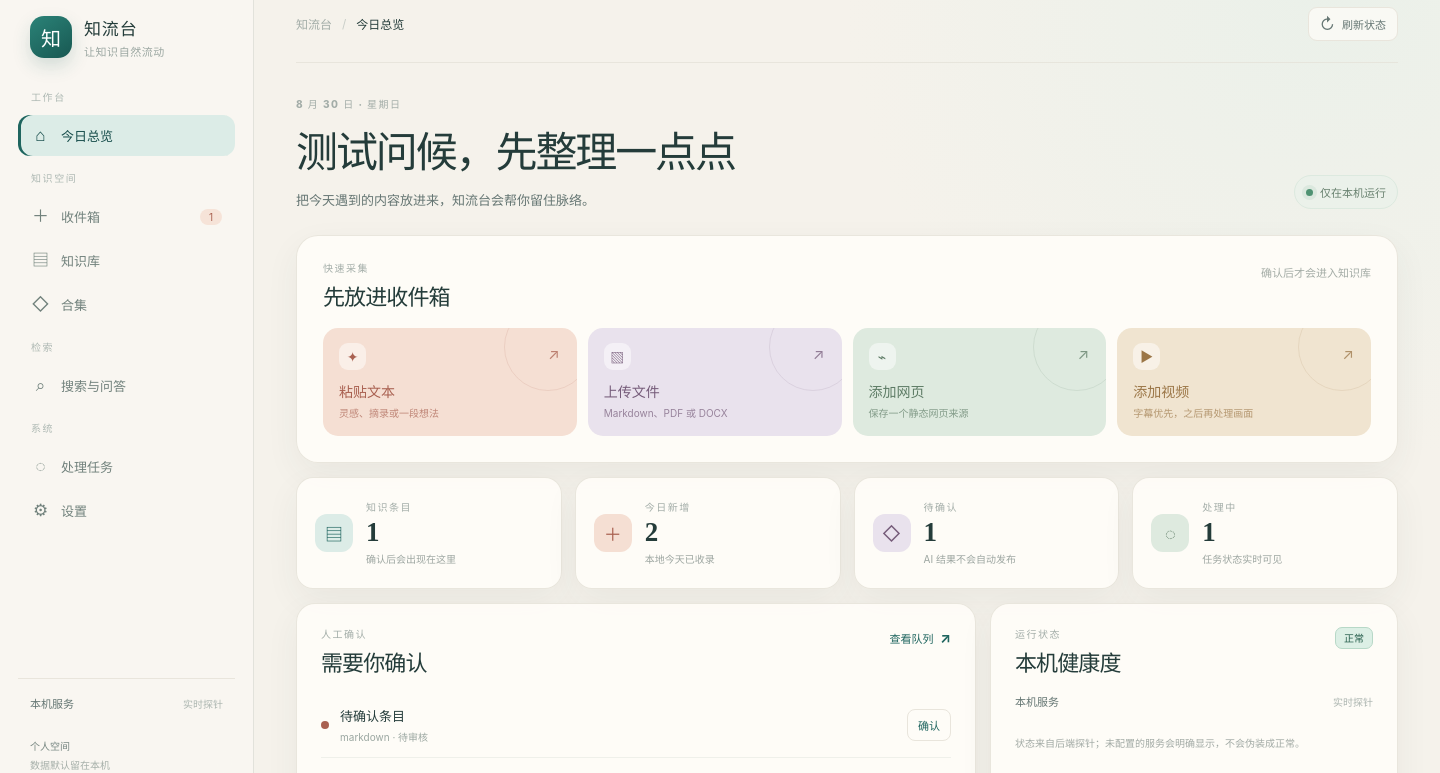
首页渲染真实 pending/recent/jobs 并导航到实际页面
Expected: the text "待确认条目" is shown, [340,708,405,724]
Expected: the text "本地今天已收录" is shown, [645,551,715,566]
Click the button "确认" at (929,725), box [907,709,951,741]
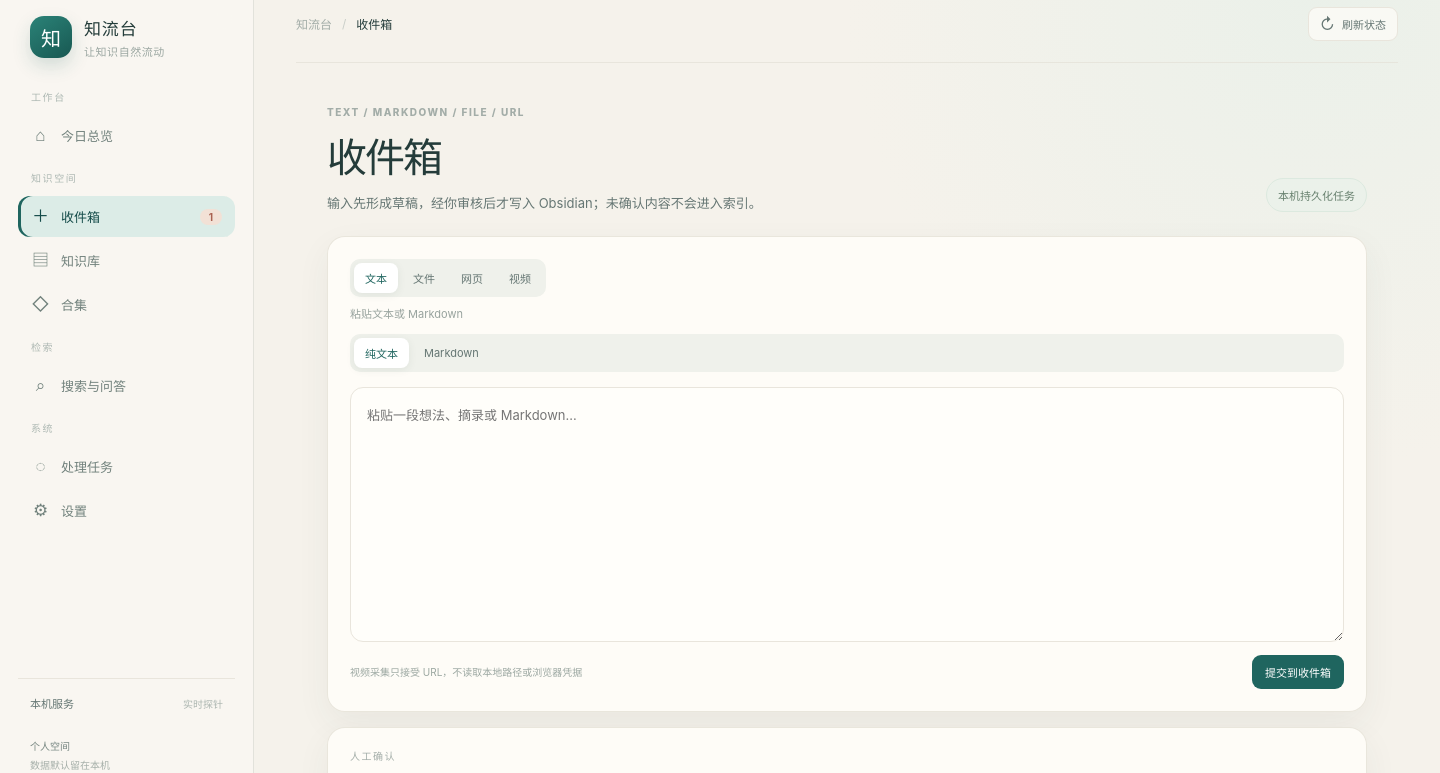
Expected: the heading "收件箱" is shown, [327,136,441,181]
Click the button "⌂ 今日总览" at (126,136), box [18,115,235,156]
(page scrolled)
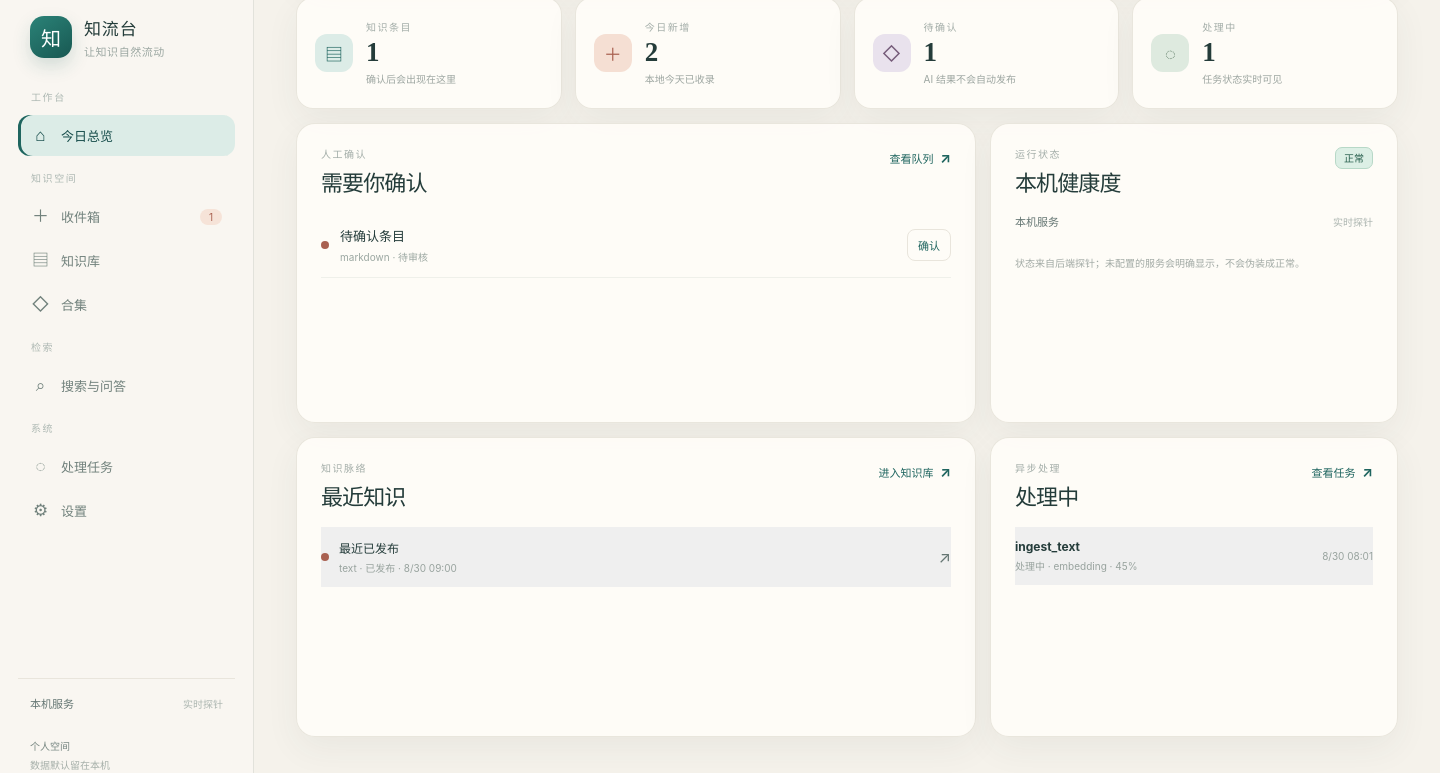
Click the button "进入知识库 ↗" at (915,472), box [878,461,951,482]
(page scrolled)
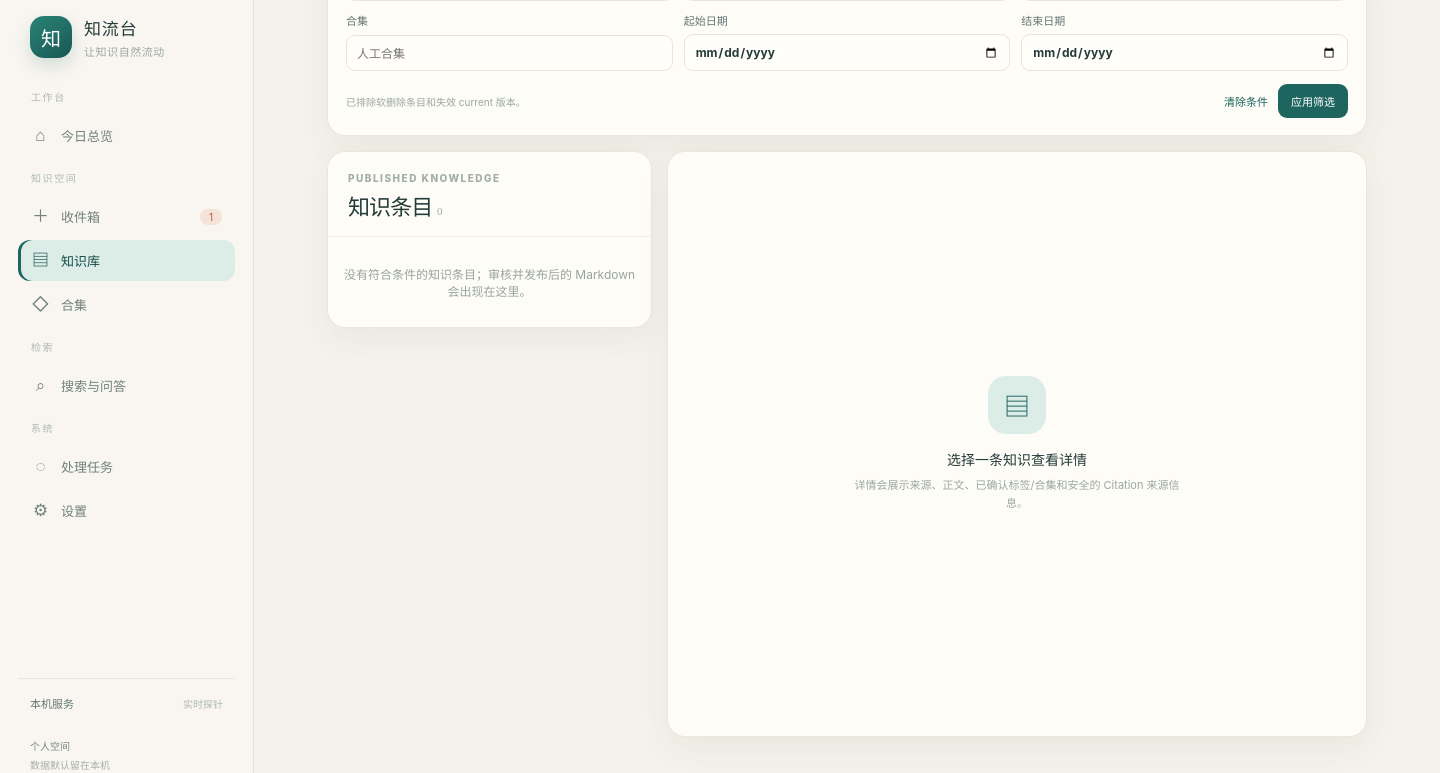
Click the button "⌂ 今日总览" at (126,136), box [18,115,235,156]
(page scrolled)
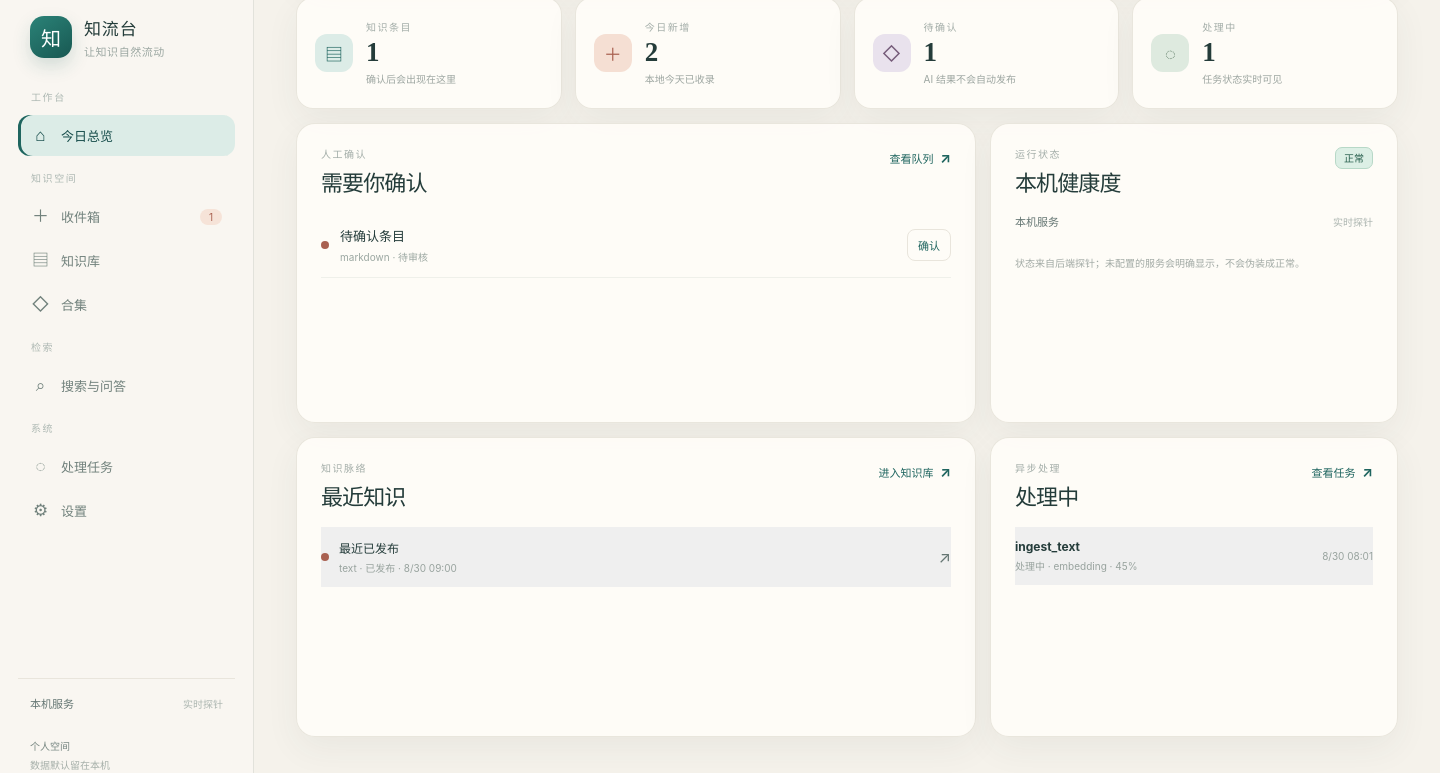
Click the button "查看任务 ↗" at (1342,472), box [1311,461,1373,482]
(page scrolled)
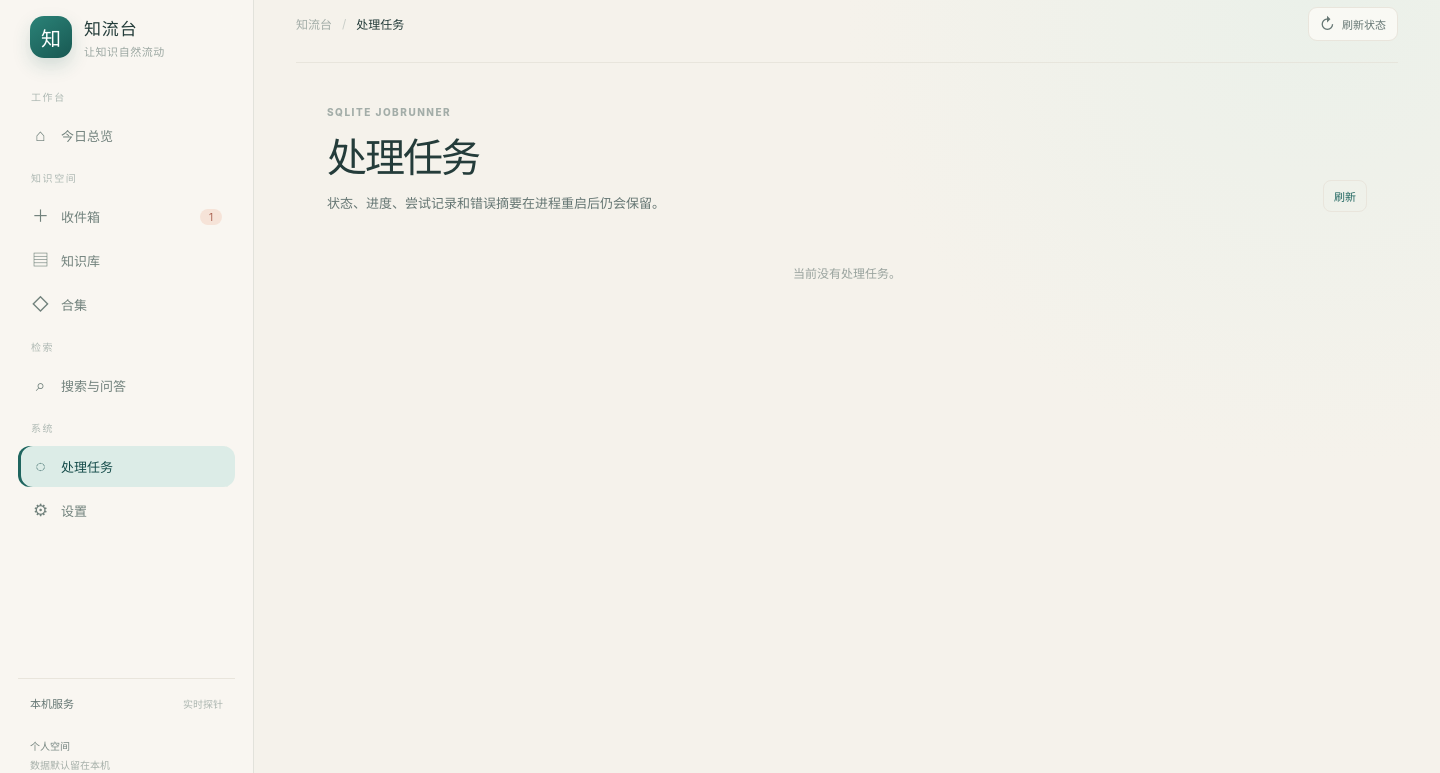
Expected: the heading "处理任务" is shown, [327,136,479,181]
